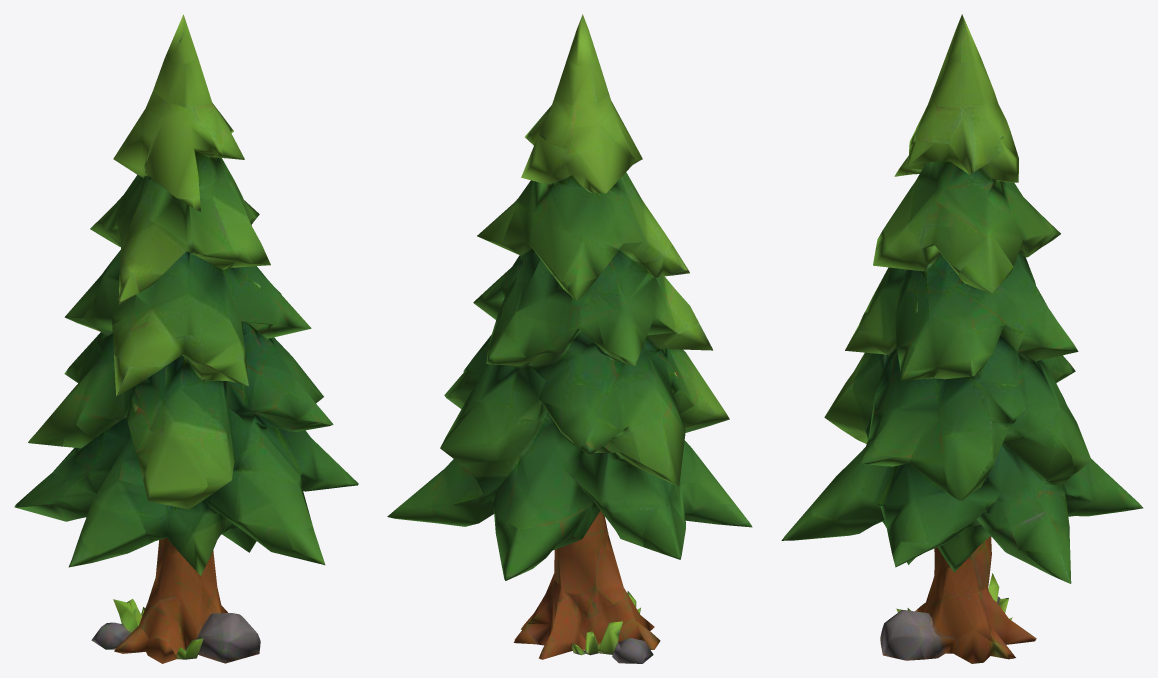
Rendered from tree_pine.glb.
3 renders of one model, left to right at view 1: azimuth 30°, elevation 25°; view 2: azimuth 150°, elevation 25°; view 3: azimuth 270°, elevation 25°, orthographic.
Visible parts, largest first — view 1: mesh_node; view 2: mesh_node; view 3: mesh_node.
Part boxes in pixels (box(x1,y1,x2,y2)): mesh_node: box(14, 14, 358, 663); mesh_node: box(387, 14, 752, 663); mesh_node: box(781, 14, 1143, 663).
Bounding box in the file's own units: 0.9134 × 1.9 × 1.
1 material, 1 textured.
